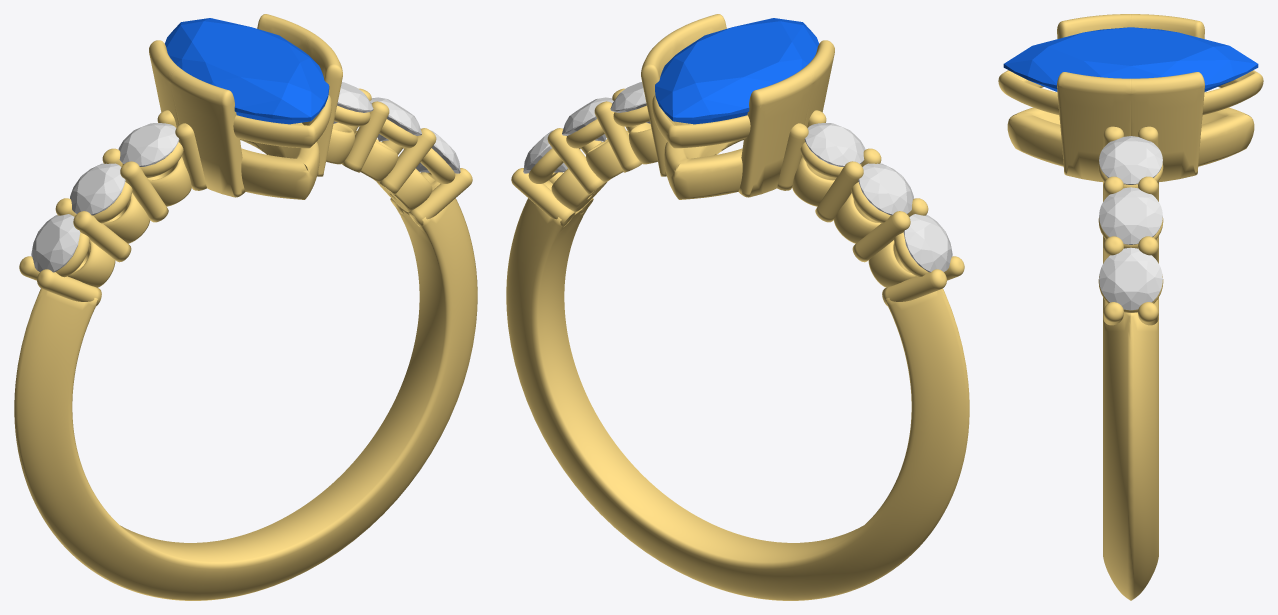
The model's file is bluesapphire-marquise-yellowgold-halfmoonbezel-knifeedge-7stone.glb.
3 renders of one model, left to right at view 1: azimuth 30°, elevation 25°; view 2: azimuth 150°, elevation 25°; view 3: azimuth 270°, elevation 25°, orthographic. The views are drawn at different scales.
Parts seen in each view (by area): view 1: metal.003, stone.001, dia.002, dia.015, dia.016, dia.018, dia.019, dia.017; view 2: metal.003, stone.001, dia.002, dia.015, dia.016, dia.018, dia.019, dia.017; view 3: metal.003, stone.001, dia.017, dia.018, dia.019.
Boxes of the visible parts, x1,y1,x2,y2 form: metal.003: [14, 14, 477, 600]; stone.001: [165, 18, 329, 124]; dia.002: [31, 214, 80, 272]; dia.015: [70, 163, 125, 215]; dia.016: [118, 123, 179, 166]; dia.018: [370, 97, 421, 141]; dia.019: [333, 82, 373, 123]; dia.017: [416, 128, 460, 173]; metal.003: [506, 14, 969, 600]; stone.001: [655, 18, 818, 124]; dia.002: [903, 214, 952, 272]; dia.015: [858, 163, 913, 215]; dia.016: [804, 123, 865, 166]; dia.018: [562, 97, 613, 141]; dia.019: [610, 82, 650, 123]; dia.017: [523, 128, 567, 173]; metal.003: [998, 14, 1263, 600]; stone.001: [1003, 27, 1258, 91]; dia.017: [1099, 247, 1162, 310]; dia.018: [1099, 187, 1162, 244]; dia.019: [1099, 136, 1162, 184].
Bounding box in the file's own units: 20.5 × 22.93 × 10.4.
